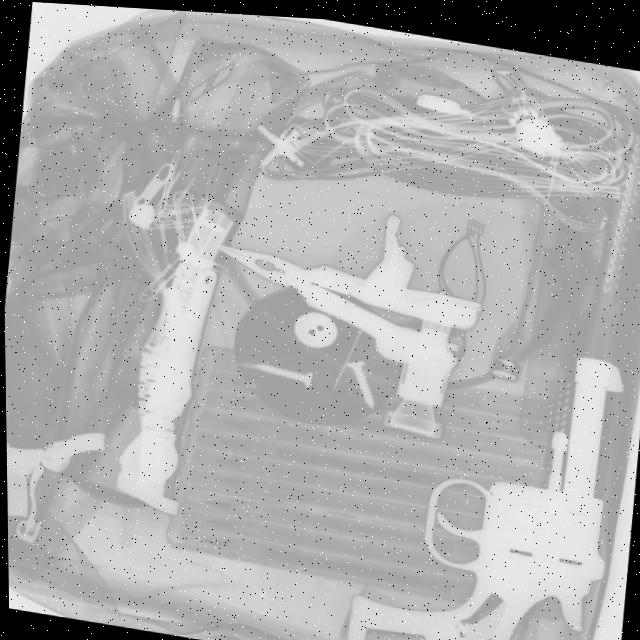pistol: (335, 312, 628, 640)
